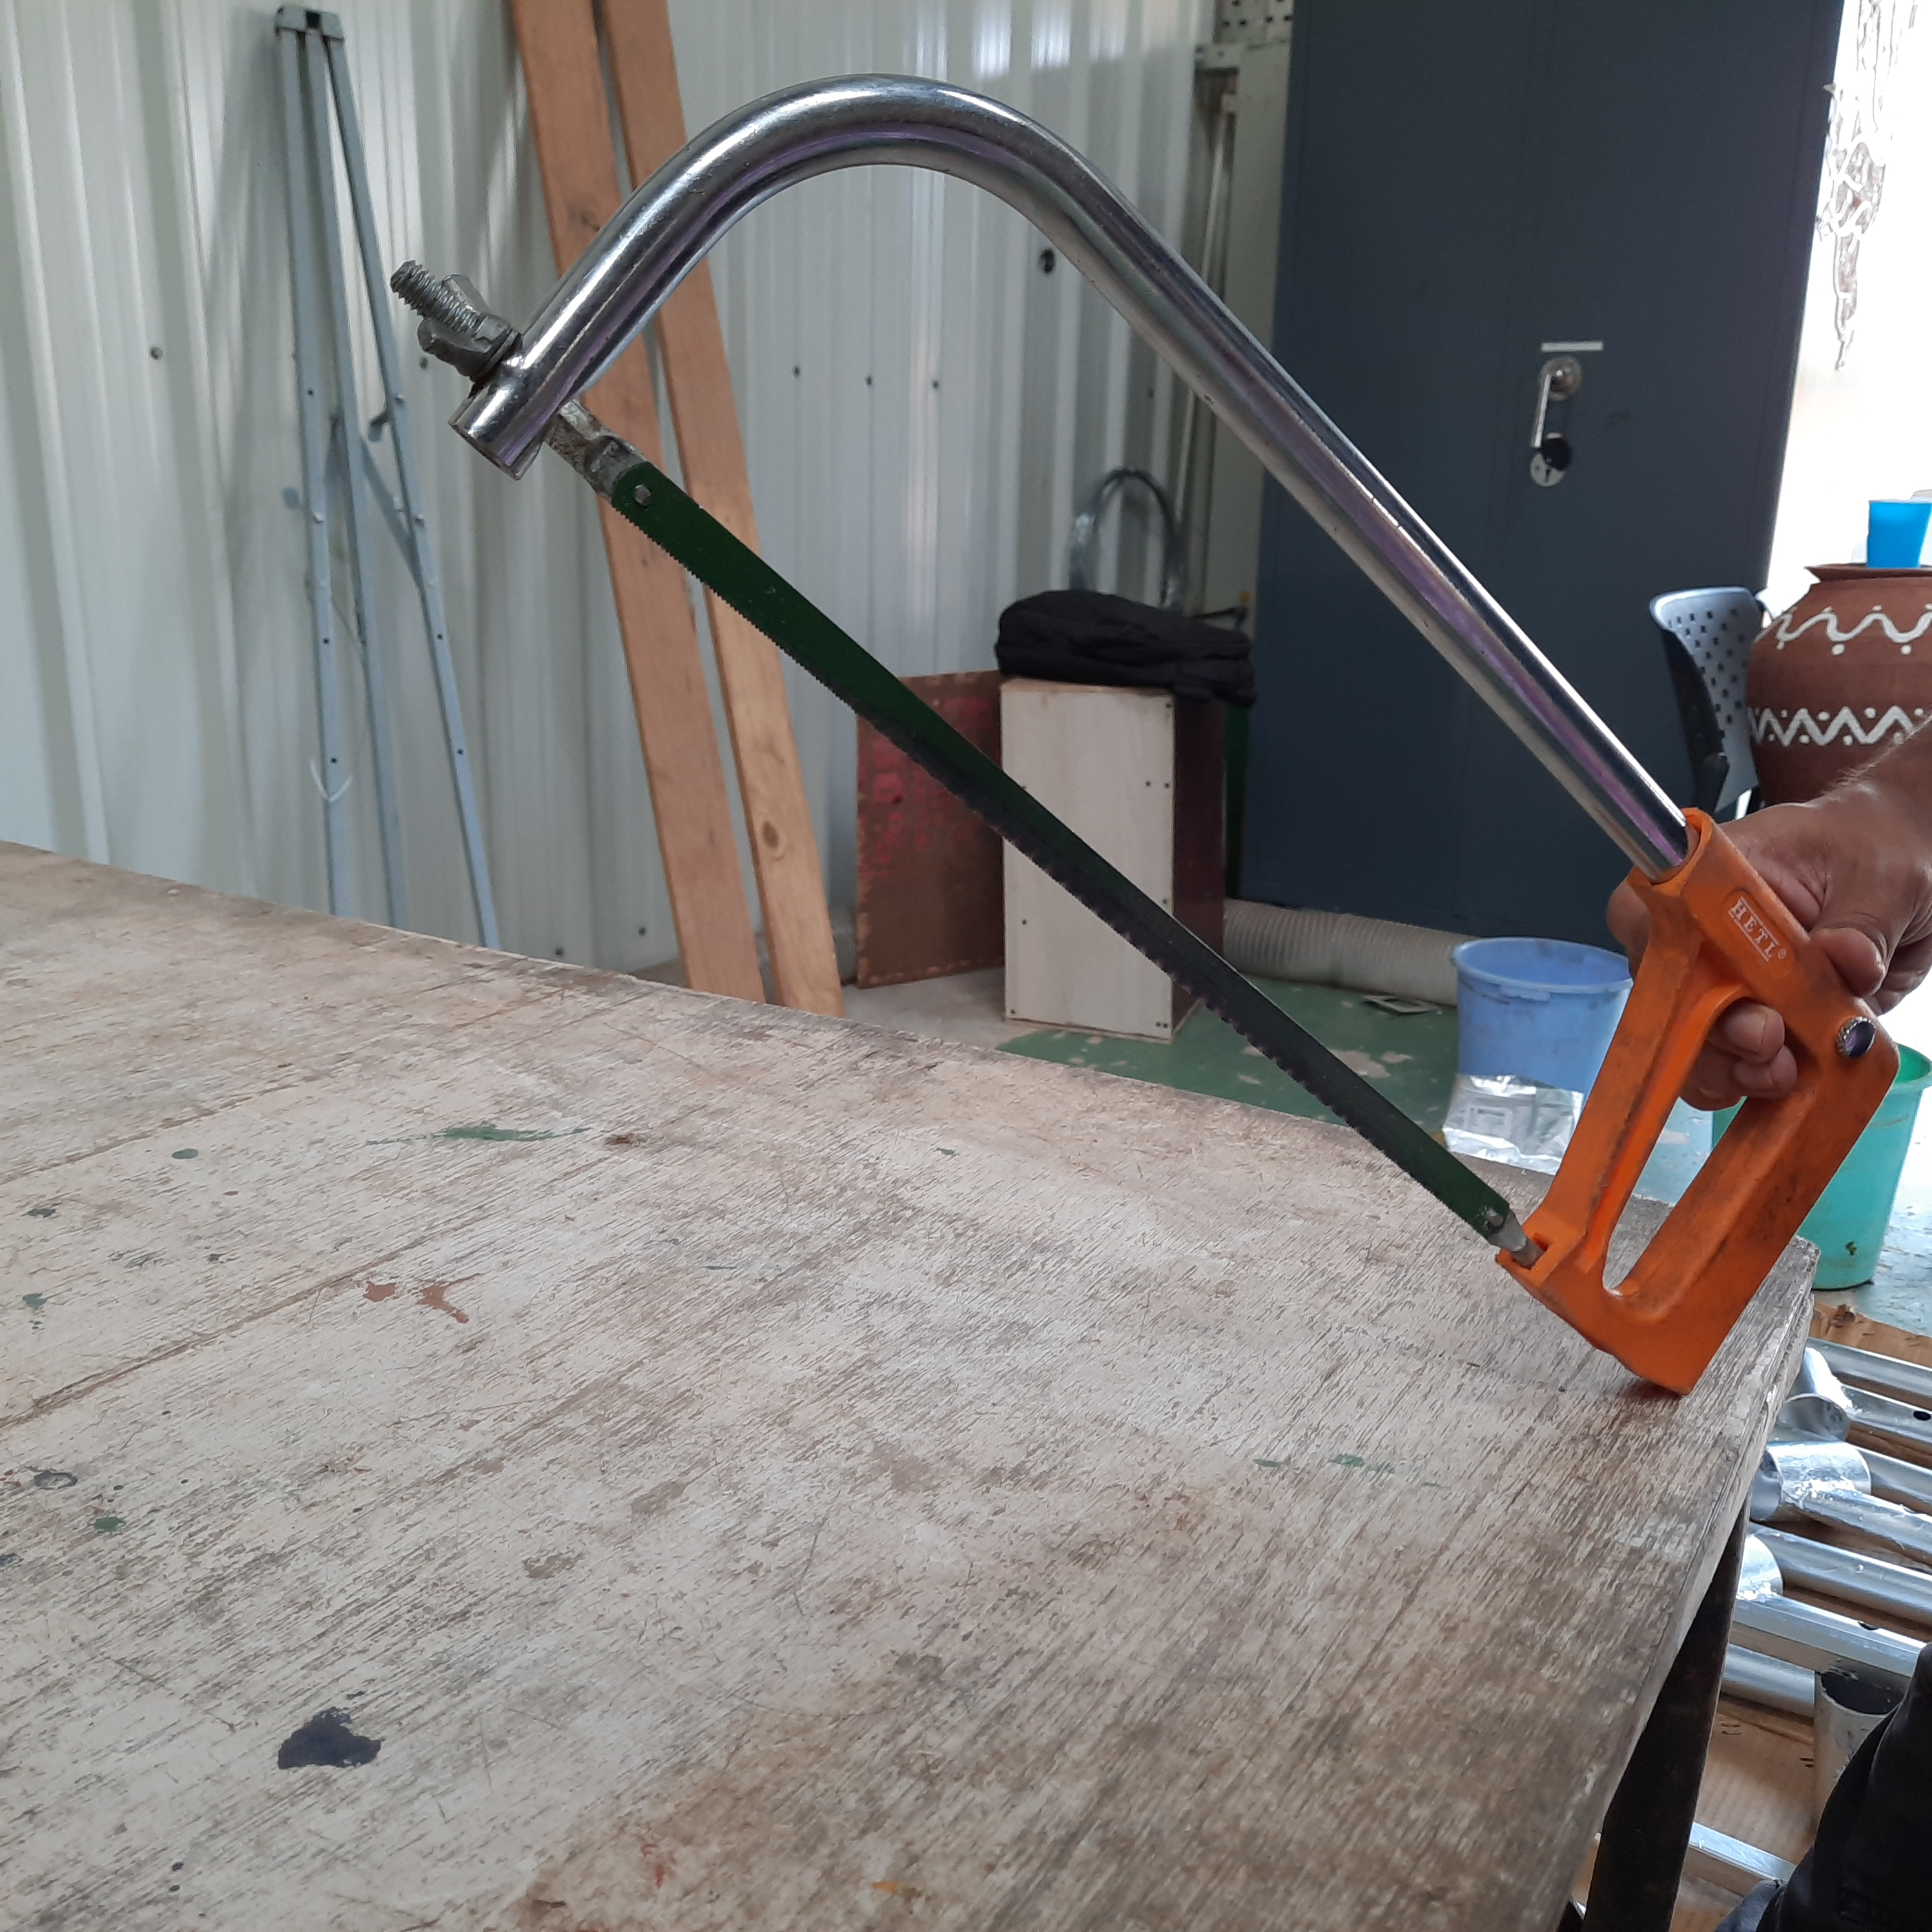Hexaframe: (368, 62, 1913, 1490)
